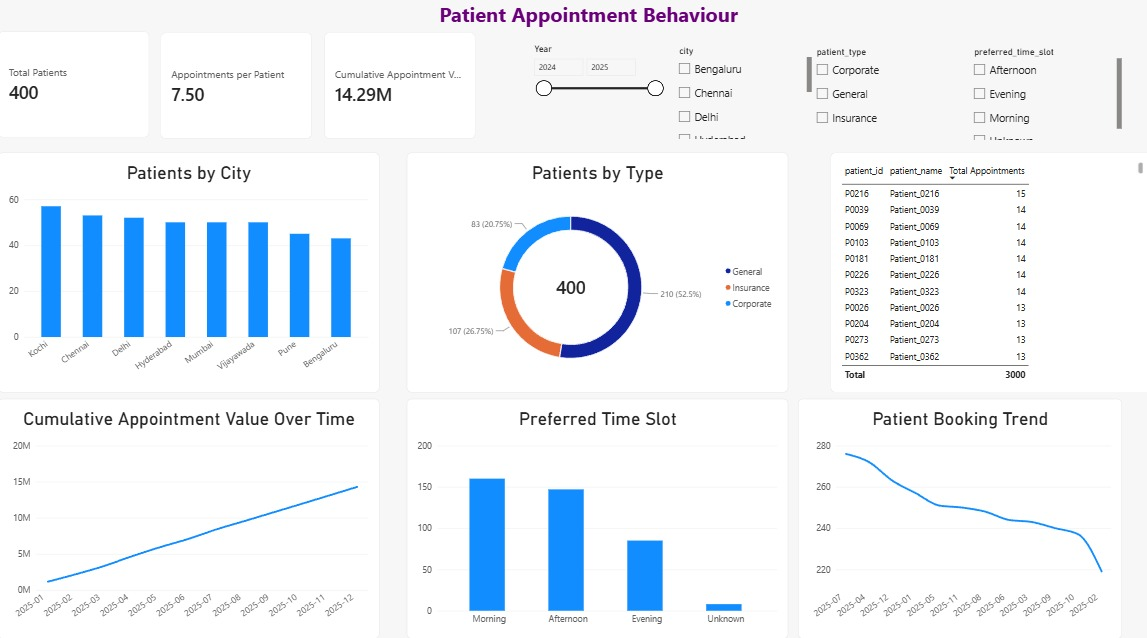

What the dashboard file says about the page in this screenshot:
{"tool":"powerbi","page":{"name":"Patient Appointment Behaviour","canvas":[1920,1080],"ordinal":4},"visuals":[{"type":"textbox","box":[184,0,1354,98],"z":0},{"type":"cardVisual","fields":{"Data":["patients.Total Patients"]},"box":[0,50,242,170],"z":1},{"type":"cardVisual","fields":{"Data":["patients.Appointments per Patient"]},"box":[260,52,242,170],"z":2},{"type":"cardVisual","fields":{"Data":["patients.Cumulative Appointment Value"]},"box":[522,52,242,170],"z":3},{"type":"clusteredColumnChart","title":"Patients by City","fields":{"Category":["patients.city"],"Y":["patients.Total Patients"]},"box":[0,244,610,384],"z":4},{"type":"donutChart","title":"Patients by Type","fields":{"Category":["patients.patient_type"],"Y":["patients.Total Patients"]},"box":[654,244,610,384],"z":5},{"type":"tableEx","fields":{"Values":["patients.patient_id","patients.patient_name","appointments.Total Appointments"]},"box":[1332,244,518,384],"z":6},{"type":"lineChart","title":"Cumulative Appointment Value Over Time","fields":{"Category":["date_table.Year-Month"],"Y":["patients.Cumulative Appointment Value"]},"box":[0,638,610,384],"z":7},{"type":"columnChart","title":"Preferred Time Slot","fields":{"Category":["patients.preferred_time_slot"],"Y":["patients.Total Patients"]},"box":[654,638,610,384],"z":8},{"type":"lineChart","title":"Patient Booking Trend","fields":{"Category":["date_table.Year-Month"],"Y":["appointments.Total Appointments"]},"box":[1280,638,518,384],"z":9},{"type":"slicer","fields":{"Values":["date_table.Year"]},"box":[850,70,218,150],"z":10},{"type":"slicer","fields":{"Values":["patients.city"]},"box":[1082,72,220,150],"z":11},{"type":"slicer","fields":{"Values":["patients.patient_type"]},"box":[1302,74,234,150],"z":12},{"type":"slicer","fields":{"Values":["patients.preferred_time_slot"]},"box":[1554,74,244,150],"z":13}]}

Visuals, with their boxes in screenshot pixels (x1, y1, x2, y2), scaled from the page's 1920x1080 canvas onto the 1147x638 screenshot:
textbox: {"left": 110, "top": 0, "right": 919, "bottom": 58}
cardVisual - patients.Total Patients: {"left": 0, "top": 30, "right": 145, "bottom": 130}
cardVisual - patients.Appointments per Patient: {"left": 155, "top": 31, "right": 300, "bottom": 131}
cardVisual - patients.Cumulative Appointment Value: {"left": 312, "top": 31, "right": 456, "bottom": 131}
"Patients by City" clusteredColumnChart: {"left": 0, "top": 144, "right": 364, "bottom": 371}
"Patients by Type" donutChart: {"left": 391, "top": 144, "right": 755, "bottom": 371}
tableEx - patients.patient_id x patients.patient_name: {"left": 796, "top": 144, "right": 1105, "bottom": 371}
"Cumulative Appointment Value Over Time" lineChart: {"left": 0, "top": 377, "right": 364, "bottom": 604}
"Preferred Time Slot" columnChart: {"left": 391, "top": 377, "right": 755, "bottom": 604}
"Patient Booking Trend" lineChart: {"left": 765, "top": 377, "right": 1074, "bottom": 604}
slicer - date_table.Year: {"left": 508, "top": 41, "right": 638, "bottom": 130}
slicer - patients.city: {"left": 646, "top": 43, "right": 778, "bottom": 131}
slicer - patients.patient_type: {"left": 778, "top": 44, "right": 918, "bottom": 132}
slicer - patients.preferred_time_slot: {"left": 928, "top": 44, "right": 1074, "bottom": 132}
